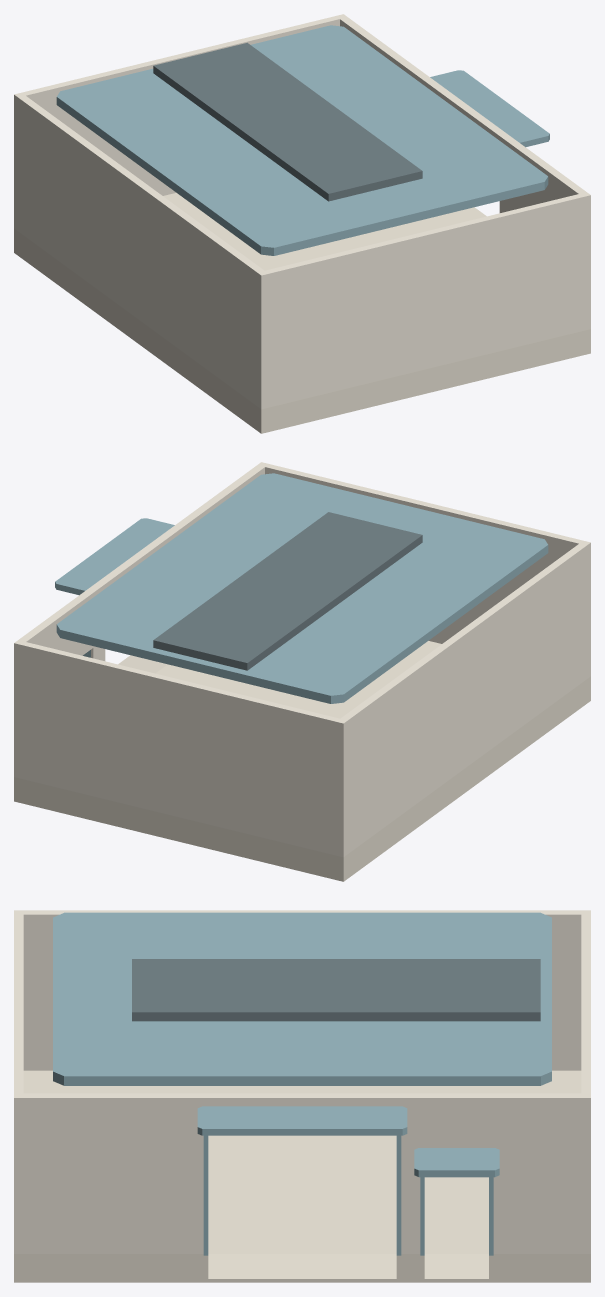
Rendered from Halo_ServiceShop_ShadowProxy.glb.
3 renders of one model, top to bottom at view 1: azimuth 30°, elevation 25°; view 2: azimuth 150°, elevation 25°; view 3: azimuth 270°, elevation 25°, orthographic. The views are drawn at different scales.
Parts seen in each view (by area): view 1: Halo_ServiceShop_ShadowProxy / Structure, Halo_ServiceShop_ShadowProxy / Roof, Halo_ServiceShop_ShadowProxy / Foundation, Halo_ServiceShop_ShadowProxy / Entrance modules; view 2: Halo_ServiceShop_ShadowProxy / Structure, Halo_ServiceShop_ShadowProxy / Roof, Halo_ServiceShop_ShadowProxy / Foundation, Halo_ServiceShop_ShadowProxy / Entrance modules; view 3: Halo_ServiceShop_ShadowProxy / Roof, Halo_ServiceShop_ShadowProxy / Structure, Halo_ServiceShop_ShadowProxy / Foundation, Halo_ServiceShop_ShadowProxy / Entrance modules.
Part boxes in pixels (x1,y1,x2,y2): Halo_ServiceShop_ShadowProxy / Structure: (14, 14, 590, 409); Halo_ServiceShop_ShadowProxy / Roof: (56, 25, 548, 255); Halo_ServiceShop_ShadowProxy / Foundation: (14, 193, 590, 433); Halo_ServiceShop_ShadowProxy / Entrance modules: (430, 70, 549, 225); Halo_ServiceShop_ShadowProxy / Structure: (14, 462, 590, 857); Halo_ServiceShop_ShadowProxy / Roof: (56, 473, 548, 703); Halo_ServiceShop_ShadowProxy / Foundation: (14, 641, 590, 881); Halo_ServiceShop_ShadowProxy / Entrance modules: (55, 518, 174, 673); Halo_ServiceShop_ShadowProxy / Roof: (53, 912, 551, 1085); Halo_ServiceShop_ShadowProxy / Structure: (14, 910, 590, 1253); Halo_ServiceShop_ShadowProxy / Foundation: (14, 1070, 590, 1282); Halo_ServiceShop_ShadowProxy / Entrance modules: (197, 1106, 499, 1282).
Bounding box in the file's own units: 11.2 × 5.05 × 13.
